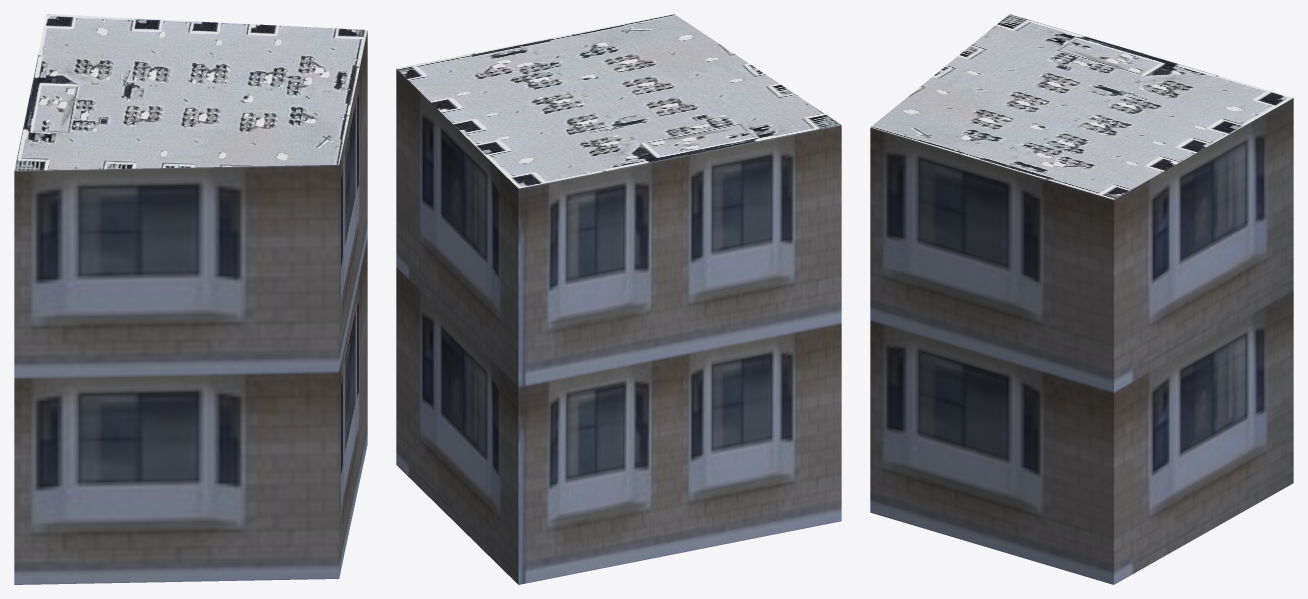
File: ResTex__5259.fbx
3 views of the same model, side by side, from view 1: azimuth 30°, elevation 25°; view 2: azimuth 150°, elevation 25°; view 3: azimuth 270°, elevation 25° (orthographic). The views are drawn at different scales.
Parts seen in each view (by area): view 1: CityEngineMaterial_3_m, CityEngineMaterial_4_m; view 2: CityEngineMaterial_3_m, CityEngineMaterial_4_m; view 3: CityEngineMaterial_3_m, CityEngineMaterial_4_m.
Part boxes in pixels (x1=…): CityEngineMaterial_3_m: x1=14, y1=31, x2=367, y2=584; CityEngineMaterial_4_m: x1=14, y1=14, x2=367, y2=170; CityEngineMaterial_3_m: x1=396, y1=69, x2=841, y2=584; CityEngineMaterial_4_m: x1=396, y1=14, x2=841, y2=188; CityEngineMaterial_3_m: x1=870, y1=98, x2=1293, y2=584; CityEngineMaterial_4_m: x1=870, y1=14, x2=1292, y2=199.
Bounding box in the file's own units: 6.21 × 6 × 5.98.
2 materials, 2 textured.
